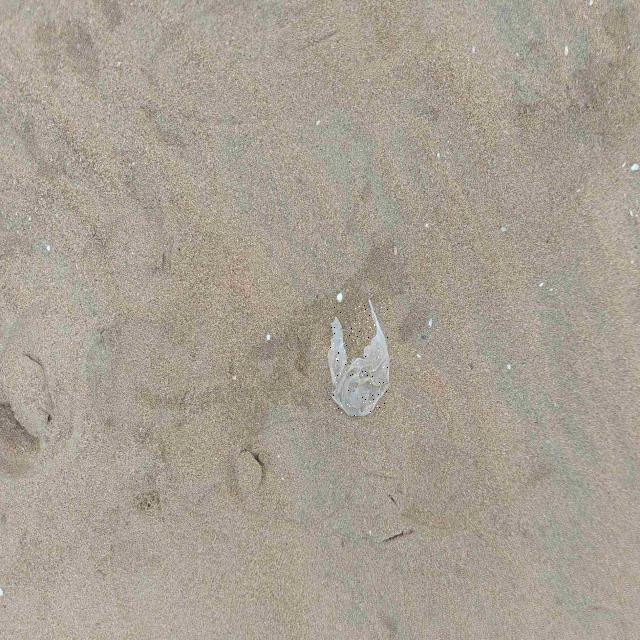plastic: (329, 301, 389, 416)
